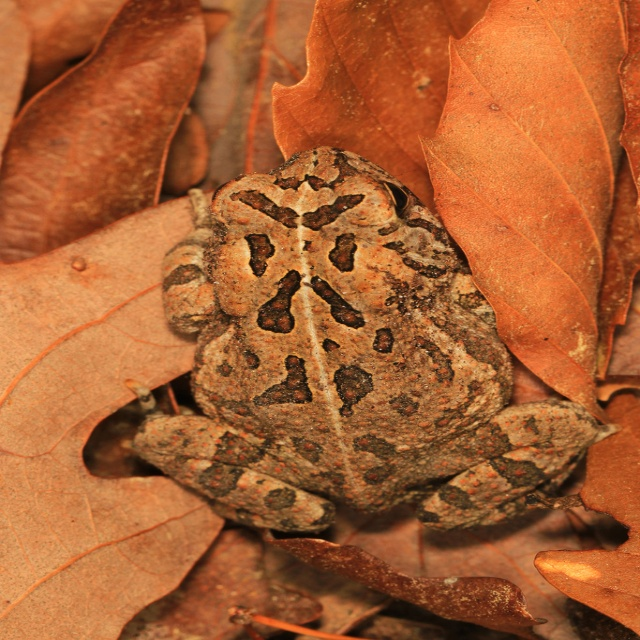Frog: (106, 142, 603, 535)
